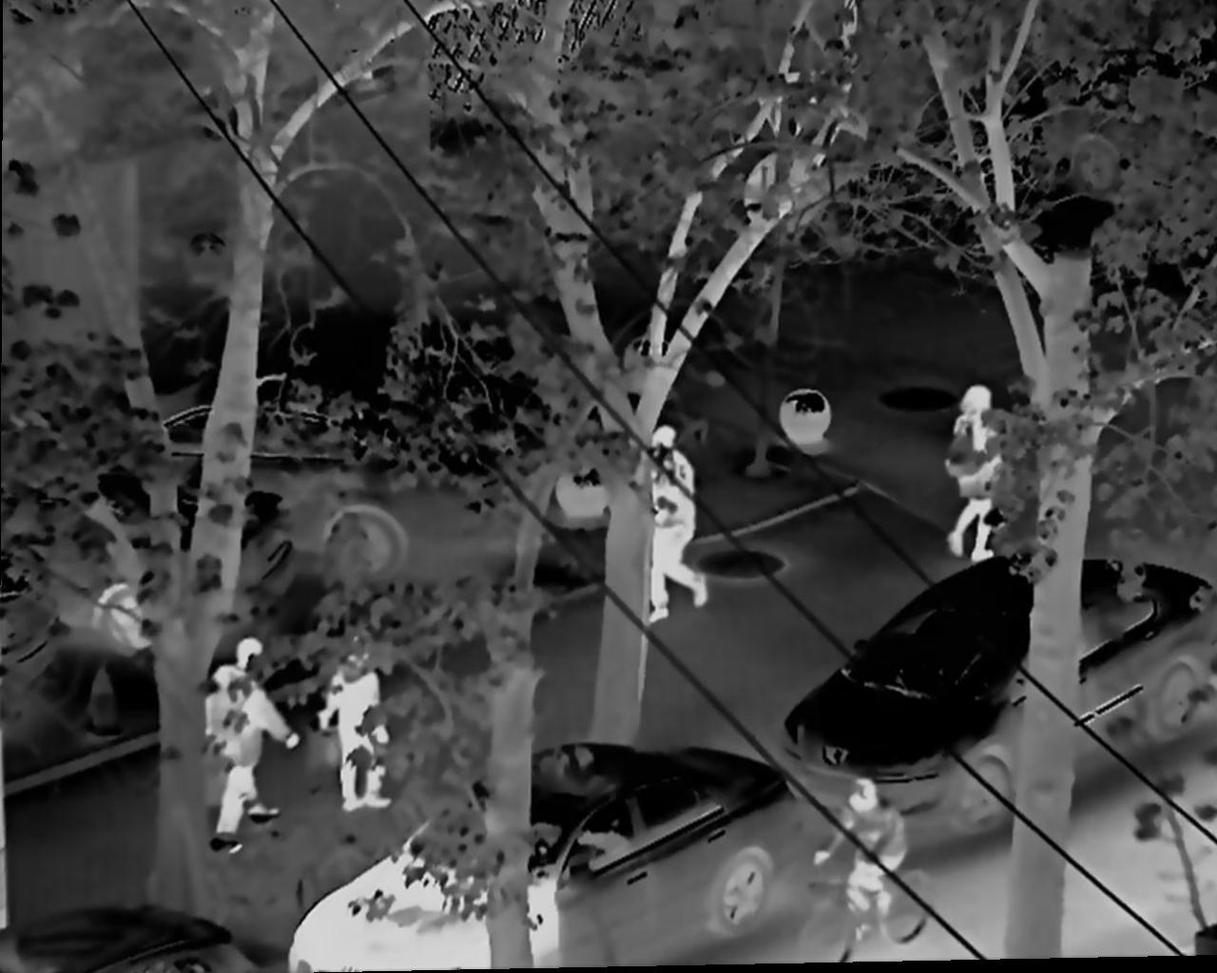person: (206, 639, 302, 856), (814, 777, 912, 930), (648, 425, 707, 628), (320, 670, 392, 812), (942, 385, 997, 565)
